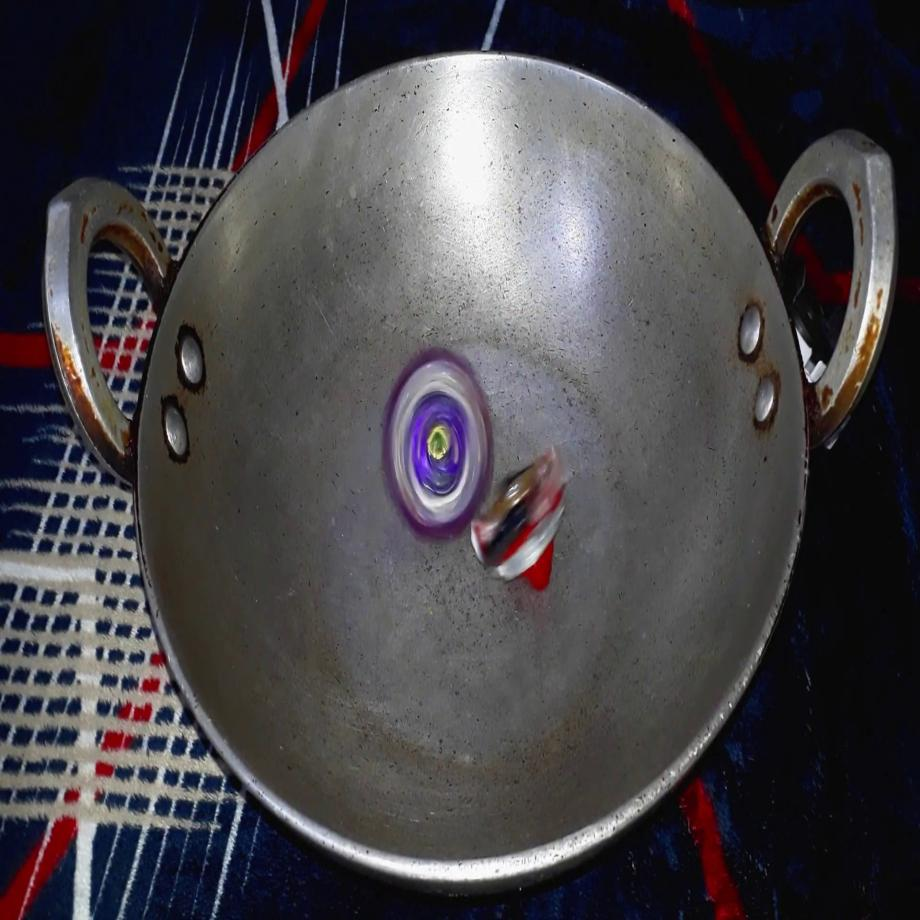beyblade: (371, 336, 498, 558), (463, 418, 572, 612)
